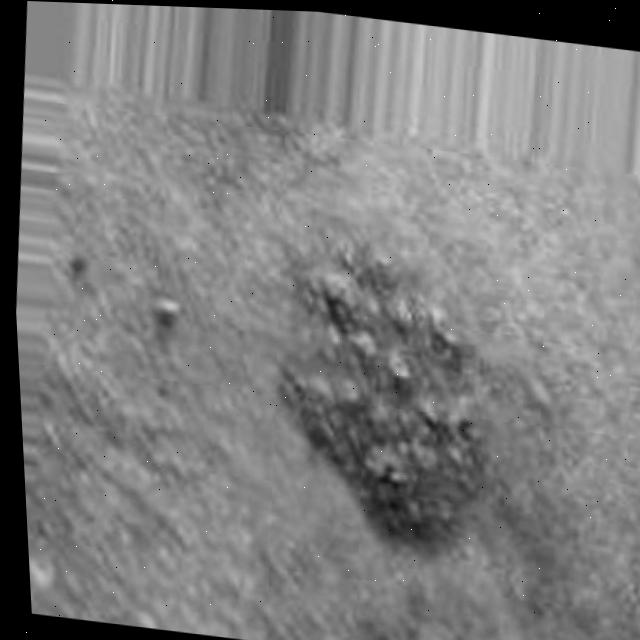Shingles: (254, 228, 510, 555)
